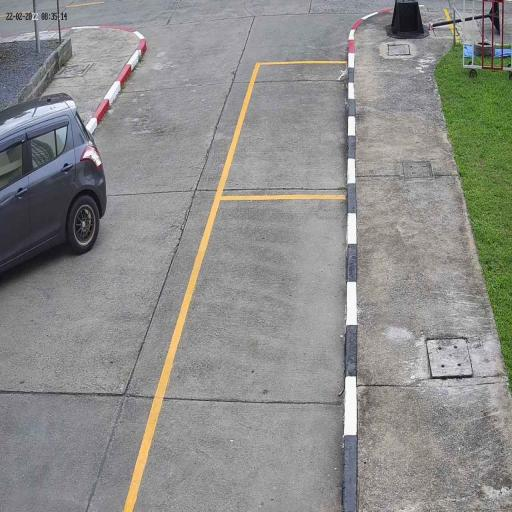car: (0, 92, 108, 281)
